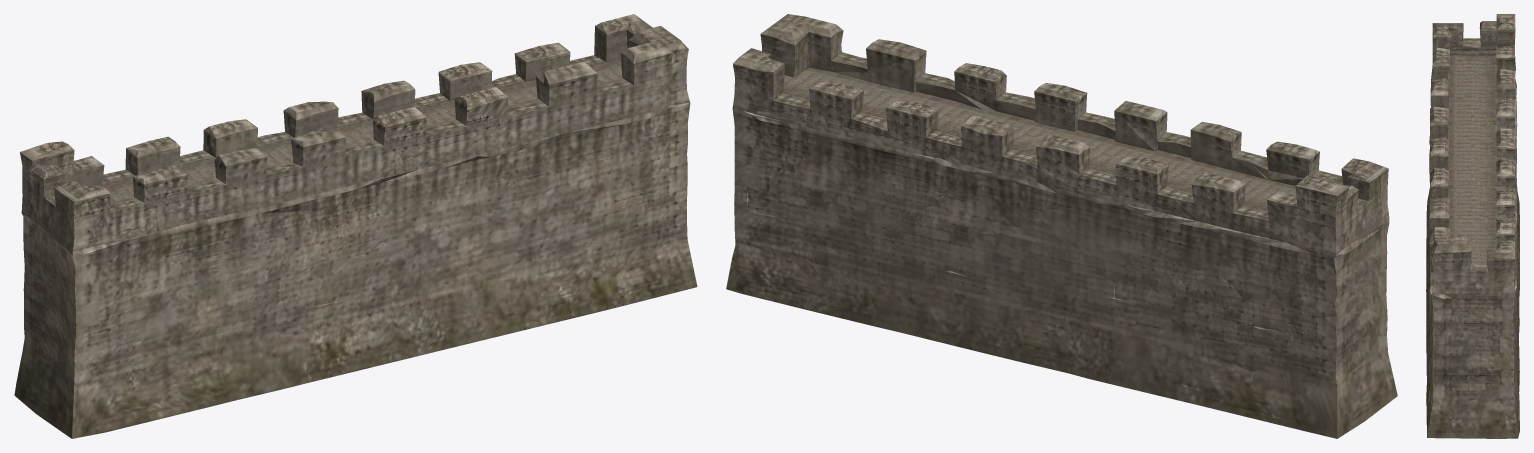
File: wall.glb
The picture shows the model from 3 angles, left to right: view 1: azimuth 30°, elevation 25°; view 2: azimuth 150°, elevation 25°; view 3: azimuth 270°, elevation 25°; orthographic projection. The views are drawn at different scales.
Size of the model in its own units: 1.9 by 0.7255 by 0.3175.
Materials: 1 (1 with a texture image).
